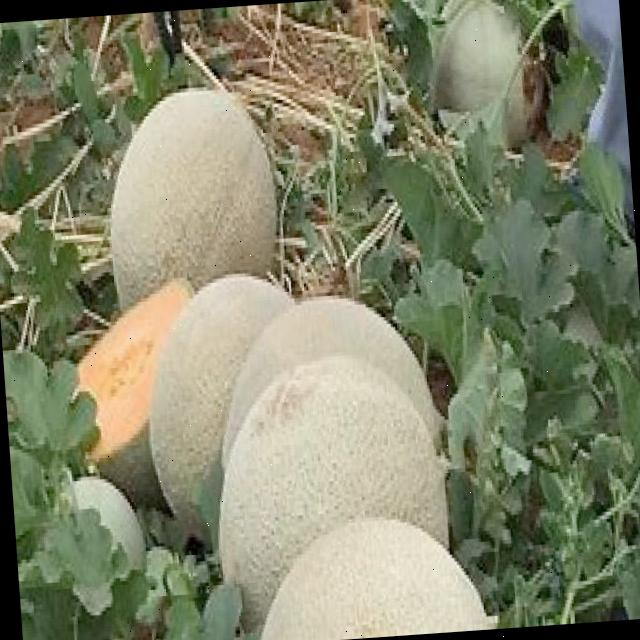Hami Melon: (202, 347, 452, 622), (208, 287, 442, 485), (138, 266, 304, 528), (98, 81, 281, 314), (248, 506, 487, 640)
